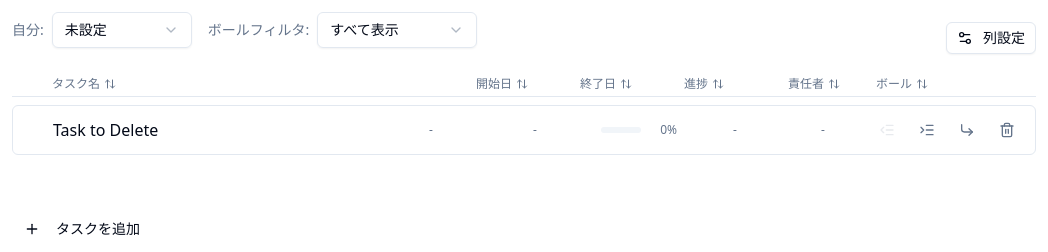
Test: TaskList › deleting tasks › deletes task when delete button is clicked
What coordinates should you click on to do the following:
click the button named "削除"
I would click on:
 (1007, 130)
Its box is [991, 114, 1023, 146].
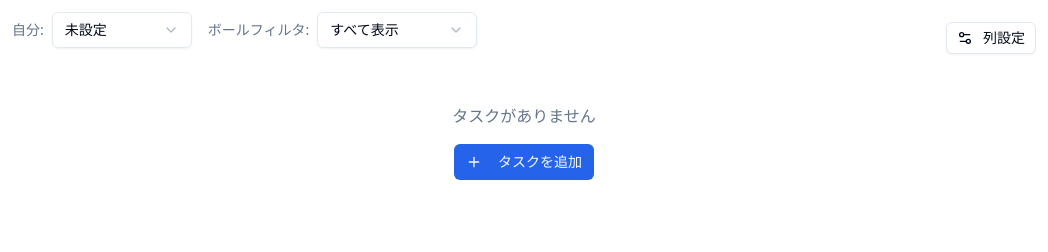
Now the text "Task to Delete" is gone
Now the text "タスクがありません" is shown, box [452, 104, 596, 128]
